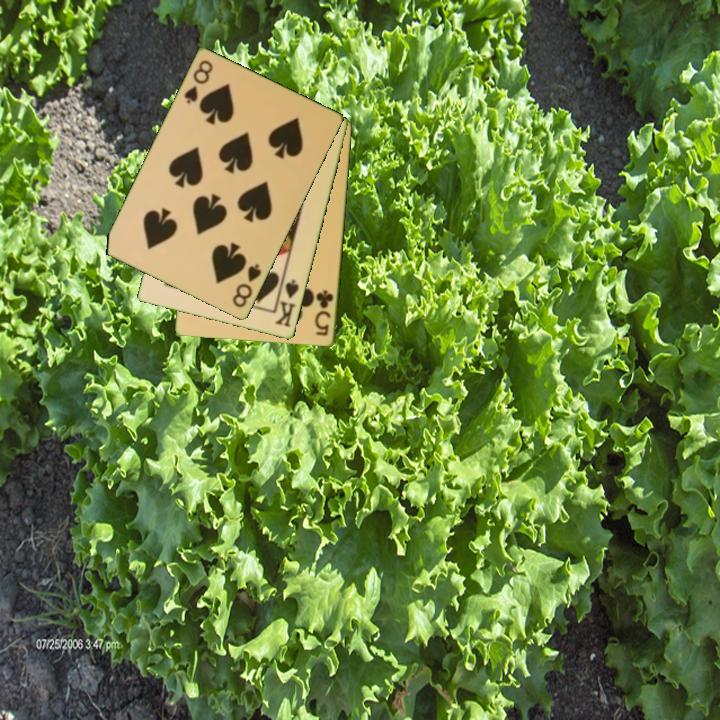5c: (312, 287, 337, 339)
8s: (180, 57, 216, 107), (229, 260, 264, 311)
Ks: (272, 274, 302, 330)
